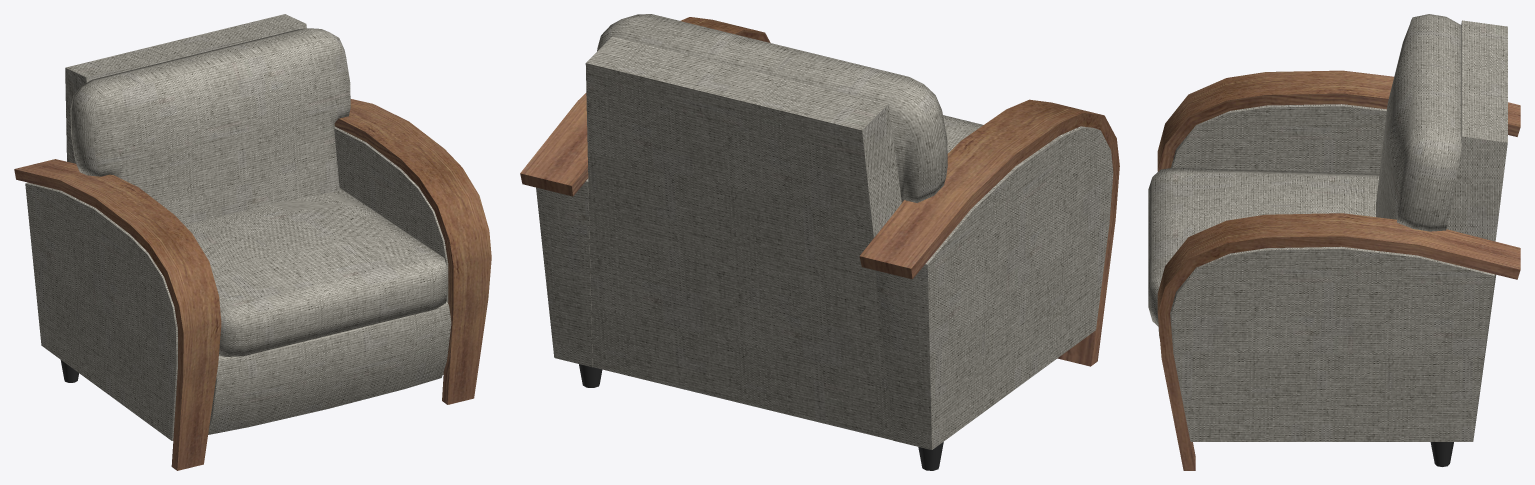
File: Arm Chair_D.DAE
3 views of the same model, side by side, from view 1: azimuth 30°, elevation 25°; view 2: azimuth 150°, elevation 25°; view 3: azimuth 270°, elevation 25° (orthographic). The views are drawn at different scales.
Parts seen in each view (by area): view 1: Object004; view 2: Object004; view 3: Object004.
Part boxes in pixels (<box>): Object004: <box>14,14,491,470</box>; Object004: <box>520,14,1119,470</box>; Object004: <box>1148,14,1520,470</box>.
Bounding box in the file's own units: 1.16 × 1.1 × 1.03.
1 material, 1 textured.
